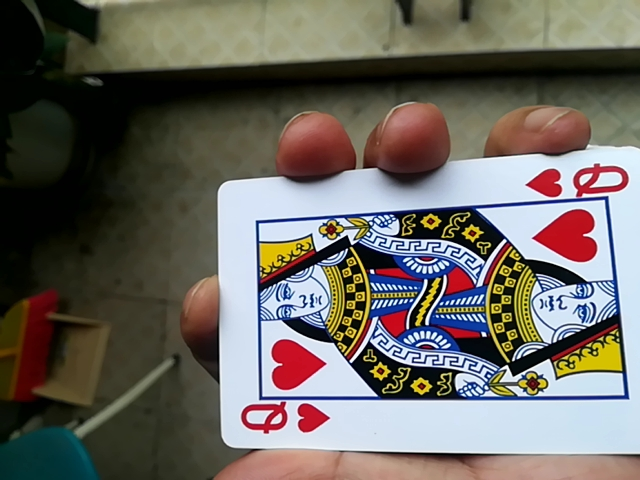hx q: (218, 151, 637, 452)
